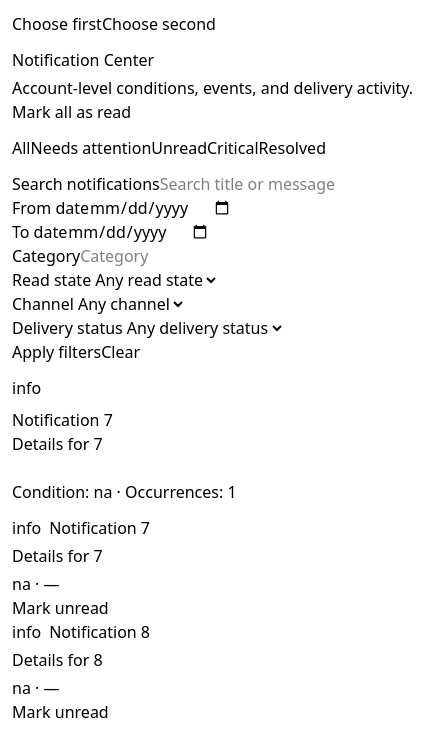
Scenario: notification detail request recovery and ownership (#39) › ignores stale read failures after selecting another notification
The image size is (429, 735).
Expected: the 1st text "Details for 7" is shown, x1=12 y1=433 x2=103 y2=455
Click the link "Choose second": (159, 24) x1=102 y1=13 x2=216 y2=35
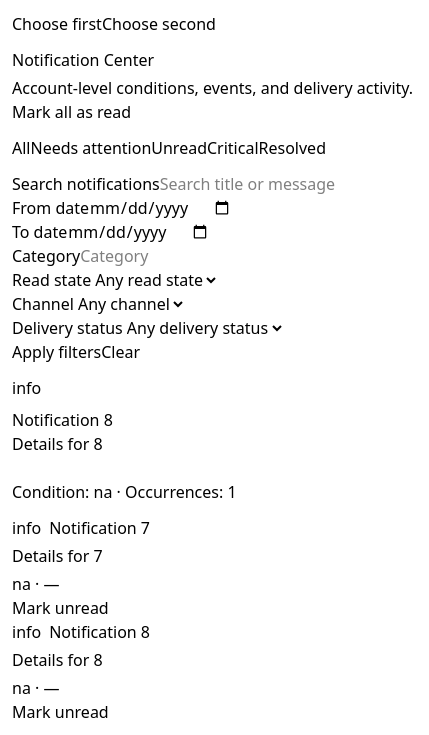
Expected: the 1st text "Details for 8" is shown, x1=12 y1=433 x2=103 y2=455
